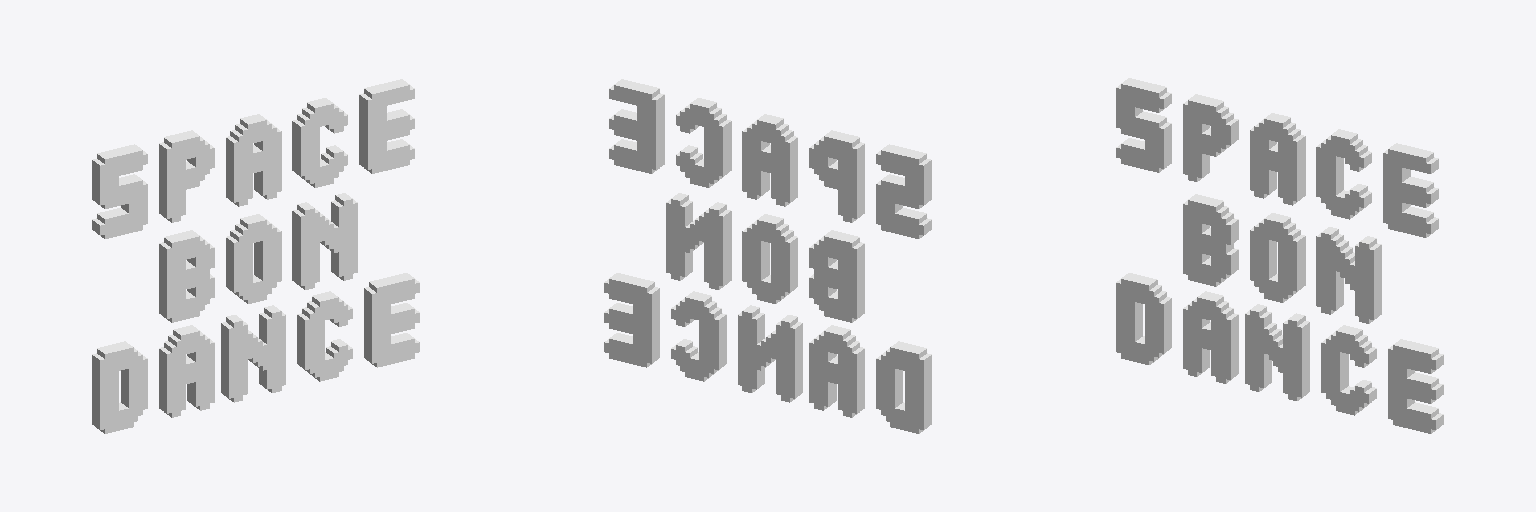
The model's file is titleSpacwebonDance.obj.
3 views of the same model, side by side, from view 1: azimuth 30°, elevation 25°; view 2: azimuth 150°, elevation 25°; view 3: azimuth 330°, elevation 25° (orthographic).
Bounding box in the file's own units: 67 × 55 × 3.